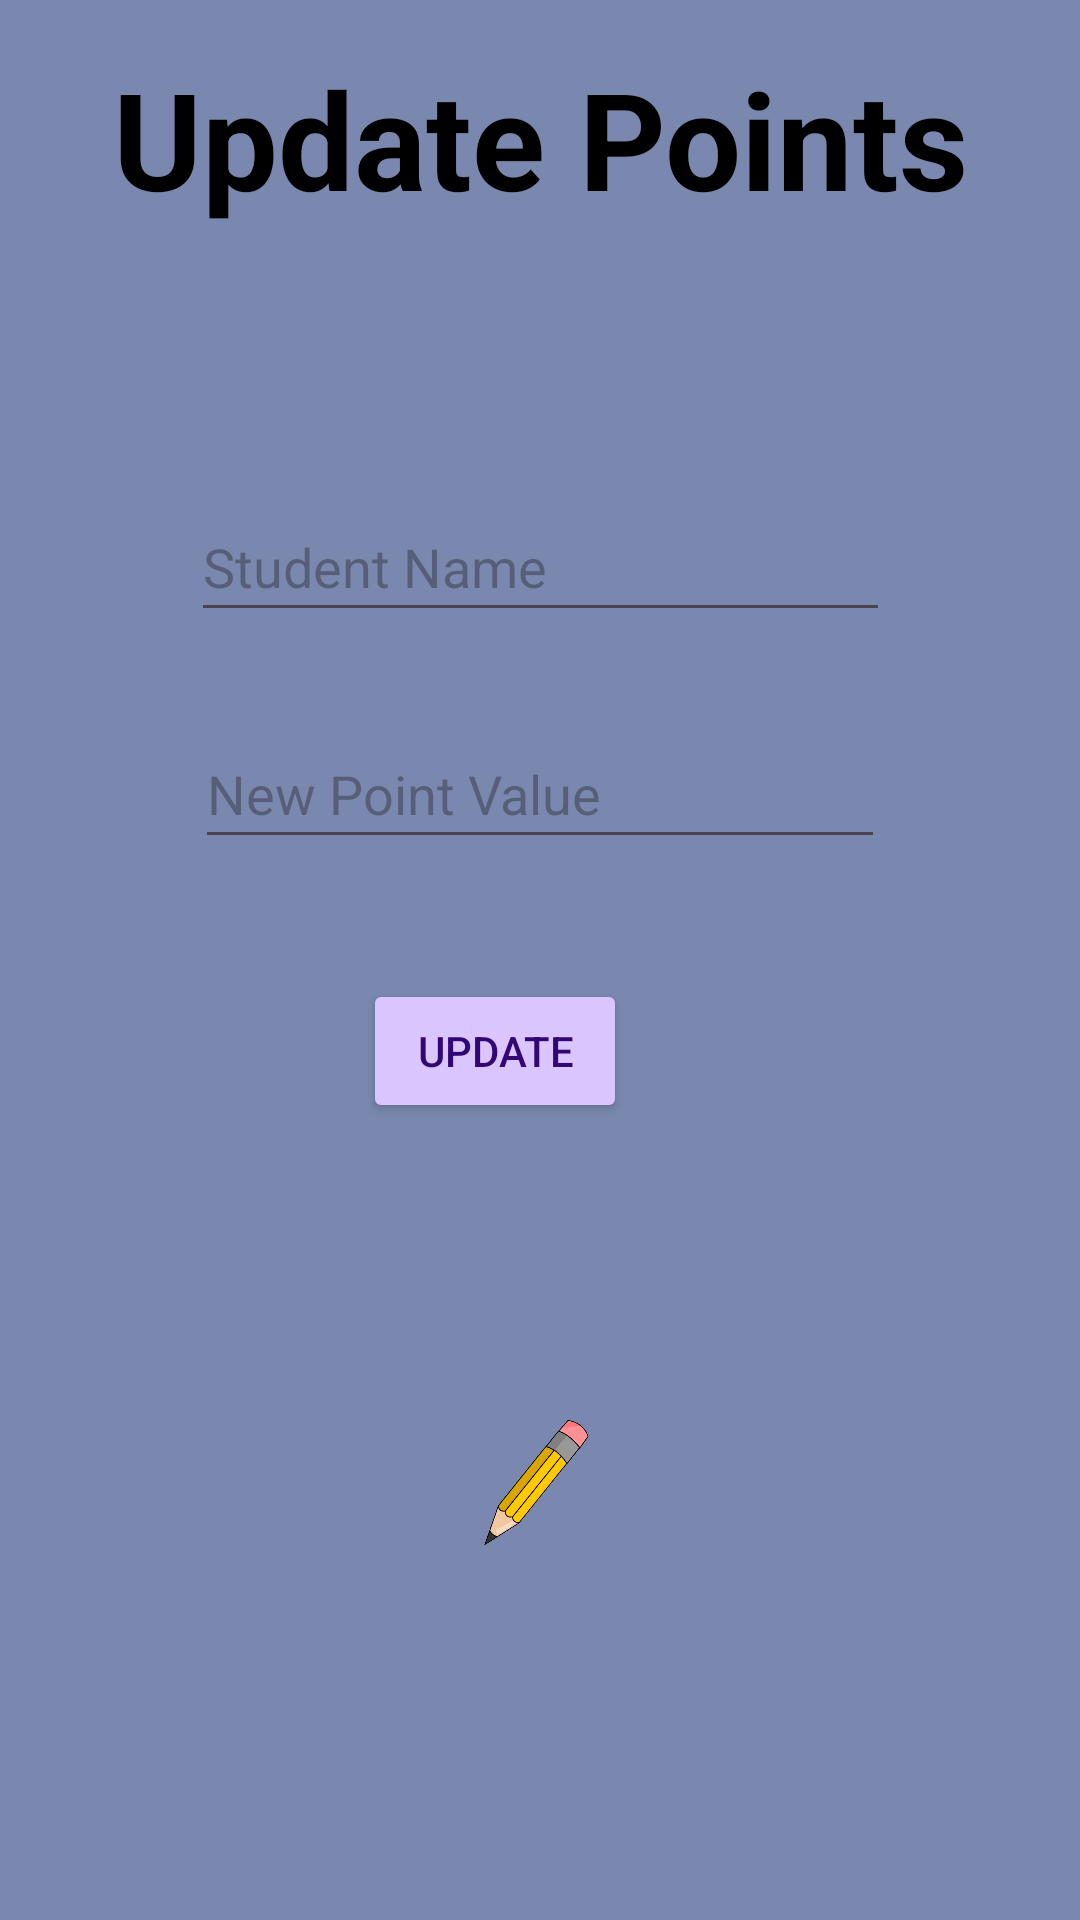

Named icons in this screenshot (1080 × 1920) and their centers, point (x, y):
pencil: point (536, 1482)
